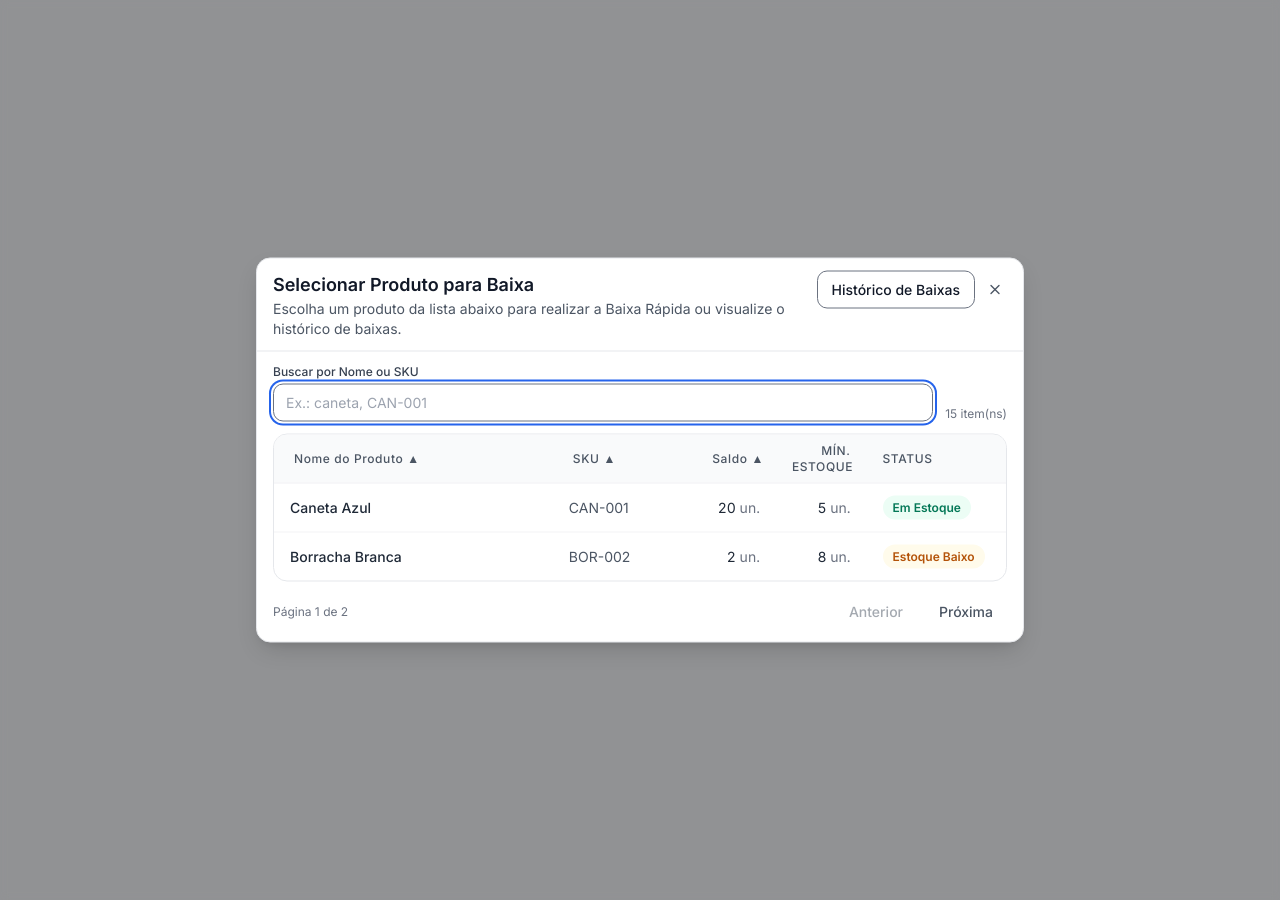
QuickOutListModal — navegação entre páginas (QOL-8) › QOL-8 · a navegação é bloqueada nos limites do resultado
Expected: the button "Caneta Azul" is shown, [290, 498, 371, 518]
Expected: the button "Anterior" is disabled, [835, 594, 917, 630]
Click the button "Próxima".
click(966, 612)  # box [925, 594, 1007, 630]
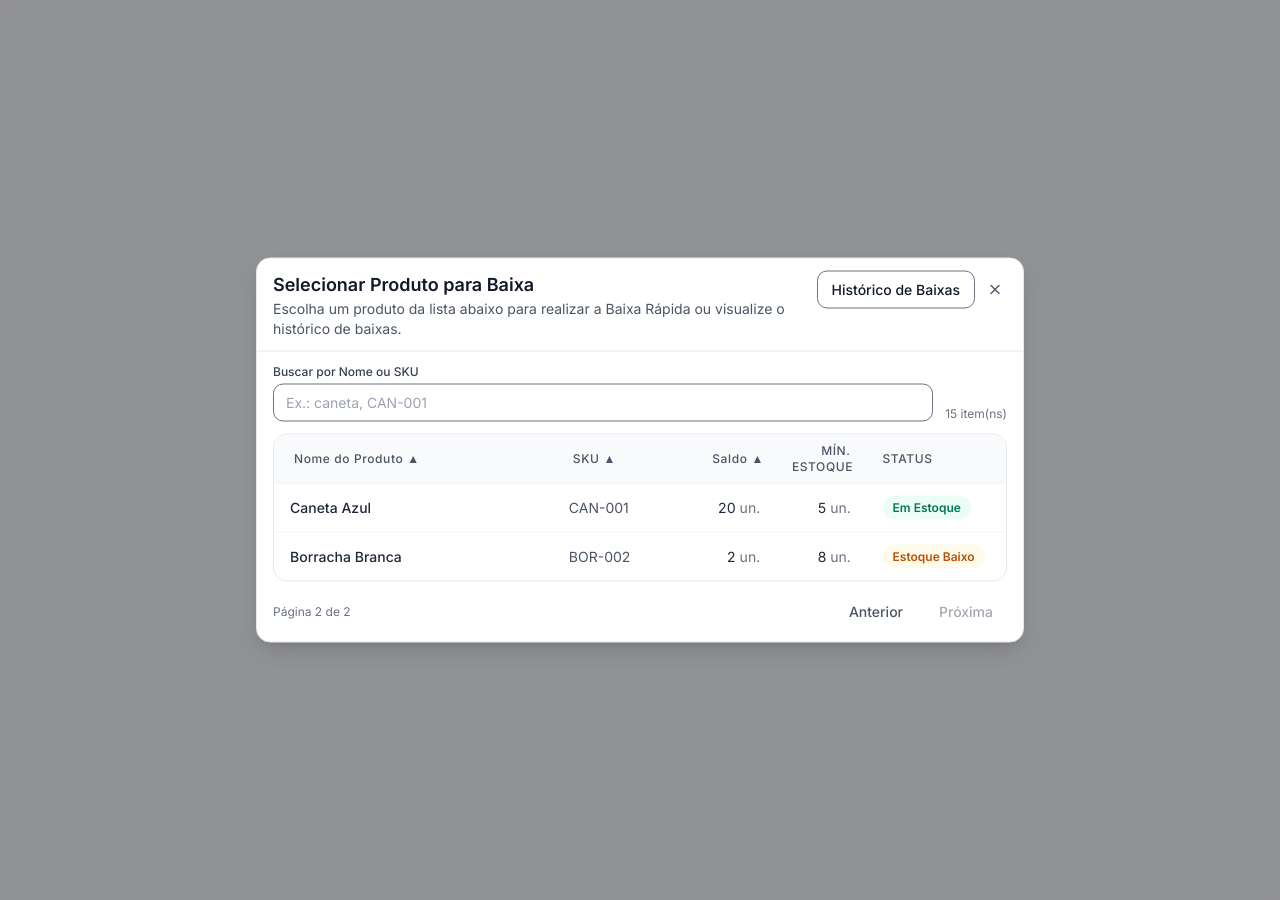
Result: the button "Próxima" is disabled at [925, 594, 1007, 630]
Result: the button "Anterior" is enabled at [835, 594, 917, 630]
